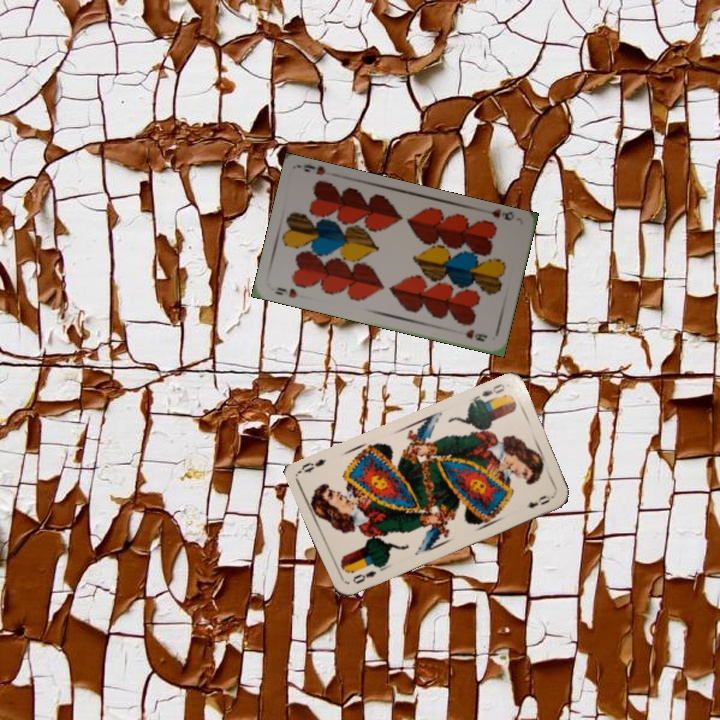EO: (471, 379, 508, 406), (348, 567, 379, 586)
H9: (480, 206, 515, 223), (271, 283, 300, 301)
